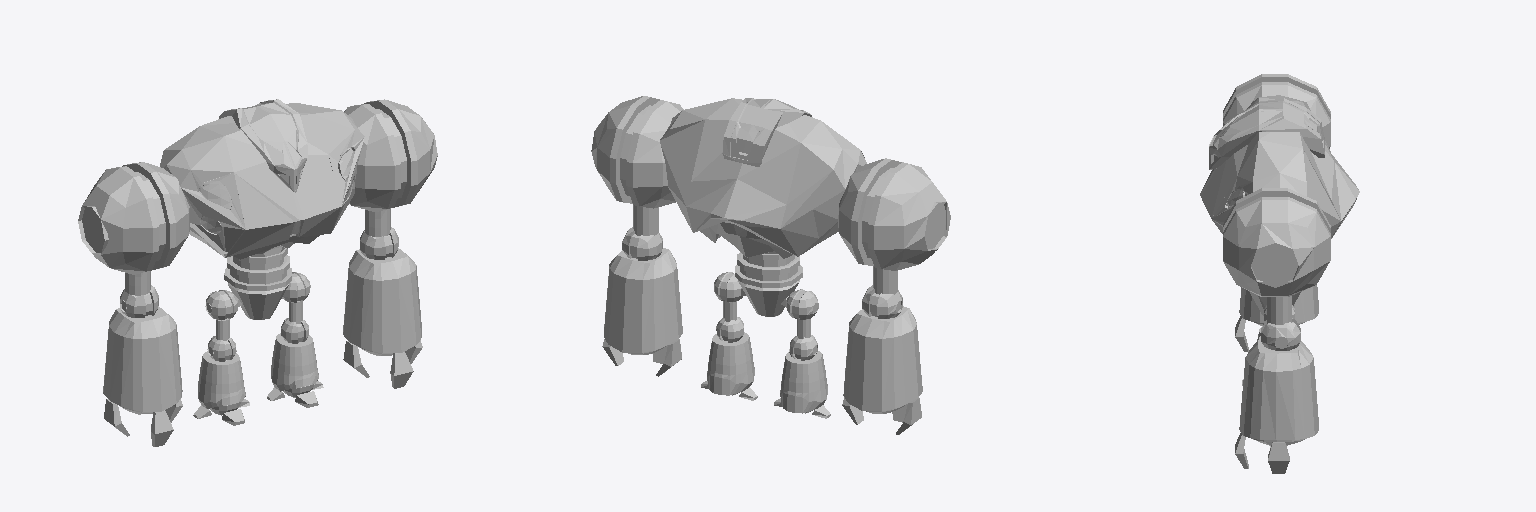
The model's file is Robot_Detail_Final.obj.
The picture shows the model from 3 angles: view 1: azimuth 30°, elevation 25°; view 2: azimuth 150°, elevation 25°; view 3: azimuth 270°, elevation 25°; orthographic projection.
Parts seen in each view (by area): view 1: Chest Body, Arm_R1 Shoulder_R2, Arm_R1 Shoulder_R3, Arm_R Forearm_R, Arm_R1 Forearm_R, Body Head, Body Torso, Leg_R1 Shin_R, Leg_R Shin_R, Arm_R1 ElbowJoint_R, Arm_R ElbowJoint_R, HipJoint_R Leg_R (+7 smaller); view 2: Chest Body, Arm_R1 Shoulder_R2, Arm_R1 Shoulder_R3, Arm_R Forearm_R, Arm_R1 Forearm_R, Body Head, Body Torso, Leg_R1 Shin_R, Leg_R Shin_R, Arm_R1 ElbowJoint_R, Arm_R ElbowJoint_R, HipJoint_R Leg_R (+5 smaller); view 3: Arm_R1 Shoulder_R3, Chest Body, Arm_R1 Forearm_R, Body Head, Arm_R1 Shoulder_R2, Arm_R Forearm_R, Arm_R1 ElbowJoint_R, Bicep_R Arm_R1, Arm_R1 FingerL_R.
Part boxes in pixels (x1,y1,x2,y2): Chest Body: (160, 103, 364, 259); Arm_R1 Shoulder_R2: (78, 162, 189, 274); Arm_R1 Shoulder_R3: (344, 99, 437, 211); Arm_R Forearm_R: (103, 306, 182, 414); Arm_R1 Forearm_R: (343, 248, 421, 355); Body Head: (219, 99, 307, 192); Body Torso: (224, 246, 291, 319); Leg_R1 Shin_R: (271, 333, 318, 391); Leg_R Shin_R: (198, 351, 245, 408); Arm_R1 ElbowJoint_R: (360, 227, 398, 259); Arm_R ElbowJoint_R: (120, 285, 158, 317); HipJoint_R Leg_R: (205, 290, 241, 320); Chest Body: (660, 98, 866, 258); Arm_R1 Shoulder_R2: (838, 158, 950, 270); Arm_R1 Shoulder_R3: (591, 96, 683, 208); Arm_R Forearm_R: (843, 306, 922, 413); Arm_R1 Forearm_R: (604, 248, 682, 354); Body Head: (722, 98, 811, 166); Body Torso: (735, 251, 802, 316); Leg_R1 Shin_R: (707, 332, 754, 395); Leg_R Shin_R: (780, 351, 827, 413); Arm_R1 ElbowJoint_R: (622, 227, 662, 260); Arm_R ElbowJoint_R: (862, 285, 902, 318); HipJoint_R Leg_R: (781, 289, 818, 319); Arm_R1 Shoulder_R3: (1223, 188, 1330, 296); Chest Body: (1200, 95, 1359, 238); Arm_R1 Forearm_R: (1239, 336, 1318, 445); Body Head: (1209, 98, 1324, 169); Arm_R1 Shoulder_R2: (1223, 74, 1330, 148); Arm_R Forearm_R: (1239, 285, 1318, 325); Arm_R1 ElbowJoint_R: (1261, 318, 1300, 350); Bicep_R Arm_R1: (1267, 296, 1291, 324); Arm_R1 FingerL_R: (1268, 442, 1289, 473).
Size of the model in its own units: 4.46 by 3.81 by 1.85.